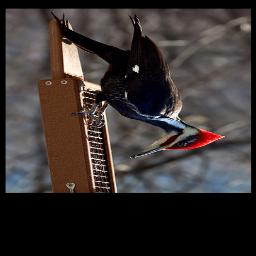Woodpecker: (50, 12, 227, 159)
